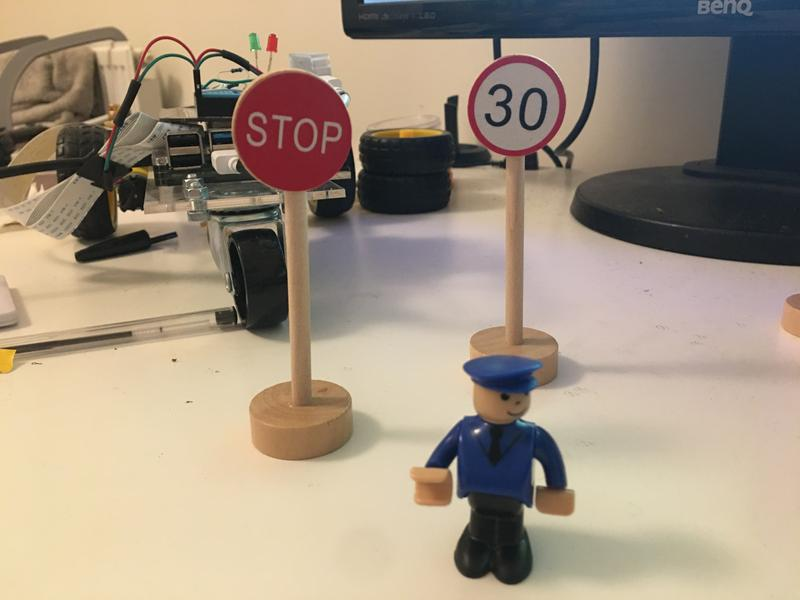Traffic_Sign_30: (467, 55, 565, 153)
Traffic_Sign_Stop: (233, 70, 349, 189)
person: (408, 353, 577, 585)
